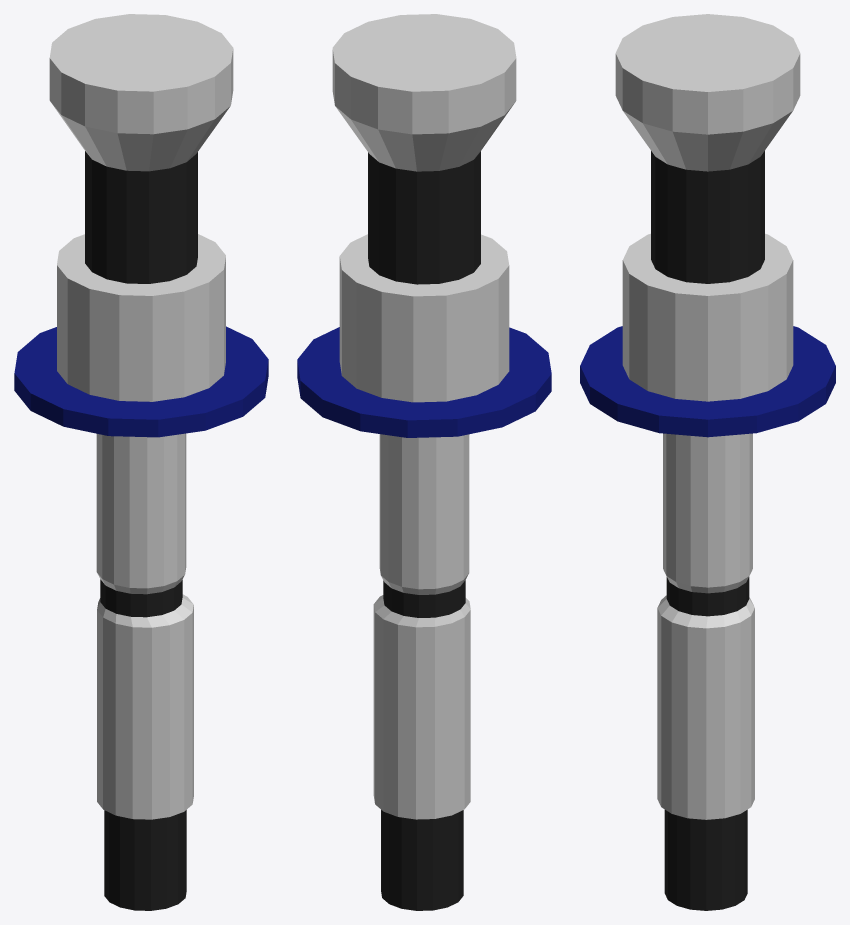
Rendered from mechPart01.fbx.
3 renders of one model, left to right at view 1: azimuth 30°, elevation 25°; view 2: azimuth 150°, elevation 25°; view 3: azimuth 270°, elevation 25°, orthographic.
Parts seen in each view (by area): view 1: Cylinder; view 2: Cylinder; view 3: Cylinder.
Boxes of the visible parts, x1,y1,x2,y2 form: Cylinder: (14, 14, 268, 910); Cylinder: (297, 14, 551, 910); Cylinder: (580, 14, 835, 910).
Size of the model in its own units: 236 by 853 by 236.
